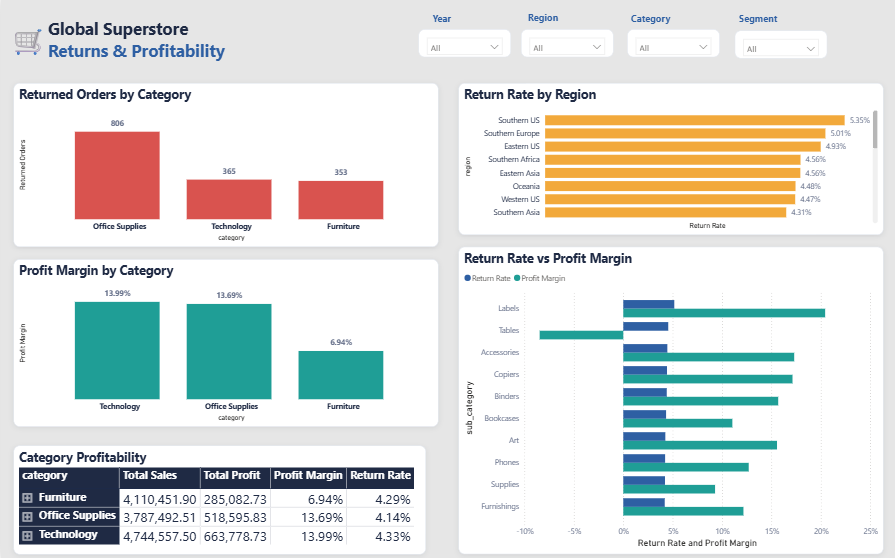

The page's visual inventory and layout, read from the dashboard file:
{"tool":"powerbi","page":{"name":"04 Returns & Profitability","canvas":[1440,900],"ordinal":3},"visuals":[{"type":"textbox","box":[70,25,661.7,128.3],"z":0},{"type":"slicer","fields":{"Values":["public dim_geography.region"]},"box":[831.7,50,148.3,45],"z":1000},{"type":"slicer","fields":{"Values":["public dim_product.category"]},"box":[1001.7,50,148.3,45],"z":2000},{"type":"slicer","fields":{"Values":["public dim_customer.segment"]},"box":[1173.3,51.7,148.3,45],"z":3000},{"type":"slicer","fields":{"Values":["public dim_geography.region"]},"box":[668.3,50,148.3,45],"z":4000},{"type":"textbox","box":[668.3,18.3,75,41.7],"z":5000},{"type":"textbox","box":[1001.7,18.3,75,41.7],"z":6000},{"type":"textbox","box":[830,16.7,75,41.7],"z":7000},{"type":"textbox","box":[1173.3,18.3,75,41.7],"z":8000},{"type":"columnChart","title":"Returned Orders by Category","fields":{"Category":["public dim_product.category"],"Y":["public fact_order_lines.Returned Orders"]},"box":[20,136,680,244],"z":9000},{"type":"barChart","title":"Return Rate by Region","fields":{"Category":["public dim_geography.region"],"Y":["public fact_order_lines.Return Rate"]},"box":[731.7,136.7,680,243.3],"z":10000},{"type":"columnChart","title":"Profit Margin by Category","fields":{"Category":["public dim_product.category"],"Y":["public bridge_returns.Profit Margin"]},"box":[20,398.3,680,260],"z":11000},{"type":"pivotTable","title":"Category Profitability","fields":{"Rows":["public dim_product.category","public dim_product.sub_category"],"Values":["public fact_order_lines.Total Sales","public bridge_returns.Total Profit","public bridge_returns.Profit Margin","public fact_order_lines.Return Rate"]},"box":[56.7,681.7,608.3,178.3],"z":12000},{"type":"textbox","box":[0,33.2,86,78.4],"z":13000},{"type":"clusteredBarChart","title":"Return Rate vs Profit Margin","fields":{"Category":["public dim_product.sub_category"],"Y":["public fact_order_lines.Return Rate","public bridge_returns.Profit Margin"]},"box":[731.7,398.3,680,491.7],"z":14000}]}

Visuals, with their boxes in screenshot pixels (x1, y1, x2, y2), scaled from the page's 1440x900 canvas onto the 895x558 screenshot:
textbox: l=44, t=16, r=455, b=95
slicer - public dim_geography.region: l=517, t=31, r=609, b=59
slicer - public dim_product.category: l=623, t=31, r=715, b=59
slicer - public dim_customer.segment: l=729, t=32, r=821, b=60
slicer - public dim_geography.region: l=415, t=31, r=508, b=59
textbox: l=415, t=11, r=462, b=37
textbox: l=623, t=11, r=669, b=37
textbox: l=516, t=10, r=562, b=36
textbox: l=729, t=11, r=776, b=37
"Returned Orders by Category" columnChart: l=12, t=84, r=435, b=236
"Return Rate by Region" barChart: l=455, t=85, r=877, b=236
"Profit Margin by Category" columnChart: l=12, t=247, r=435, b=408
"Category Profitability" pivotTable: l=35, t=423, r=413, b=533
textbox: l=0, t=21, r=53, b=69
"Return Rate vs Profit Margin" clusteredBarChart: l=455, t=247, r=877, b=552
